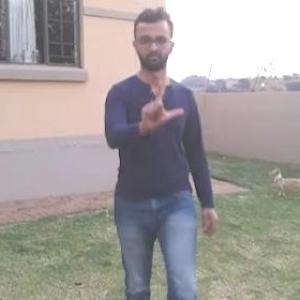land_hand: (134, 72, 183, 128)
